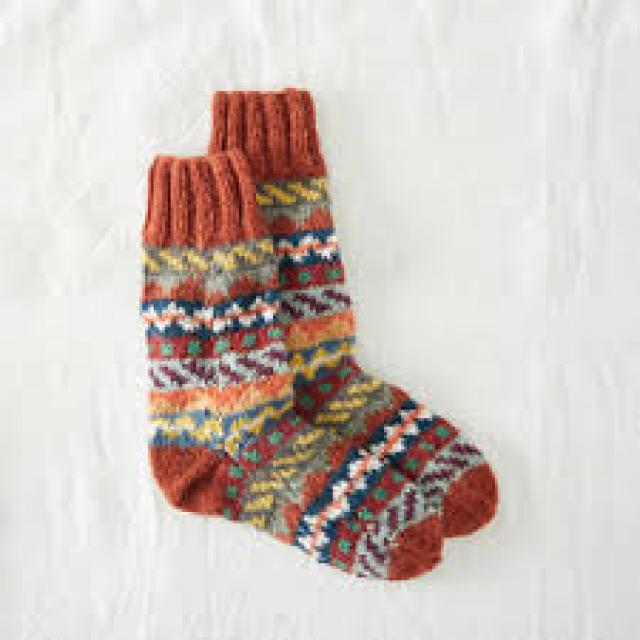Plastic -Non-Biodegradable but Recyclable-: (141, 89, 501, 582)
